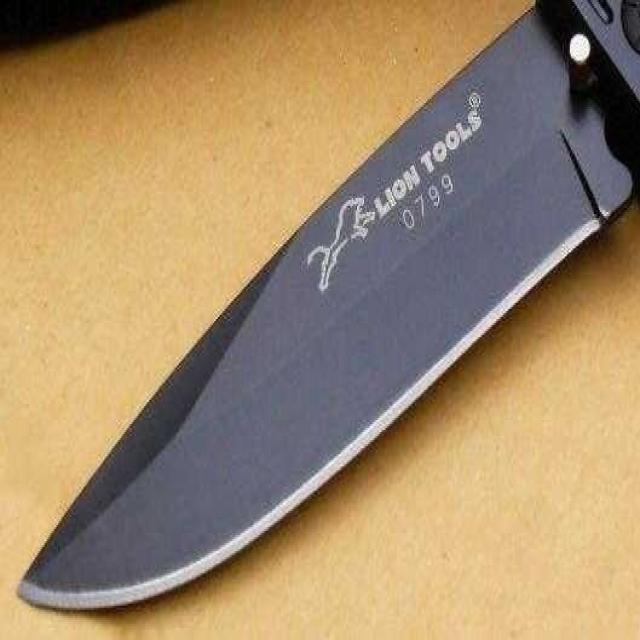knife: (11, 0, 640, 625)
